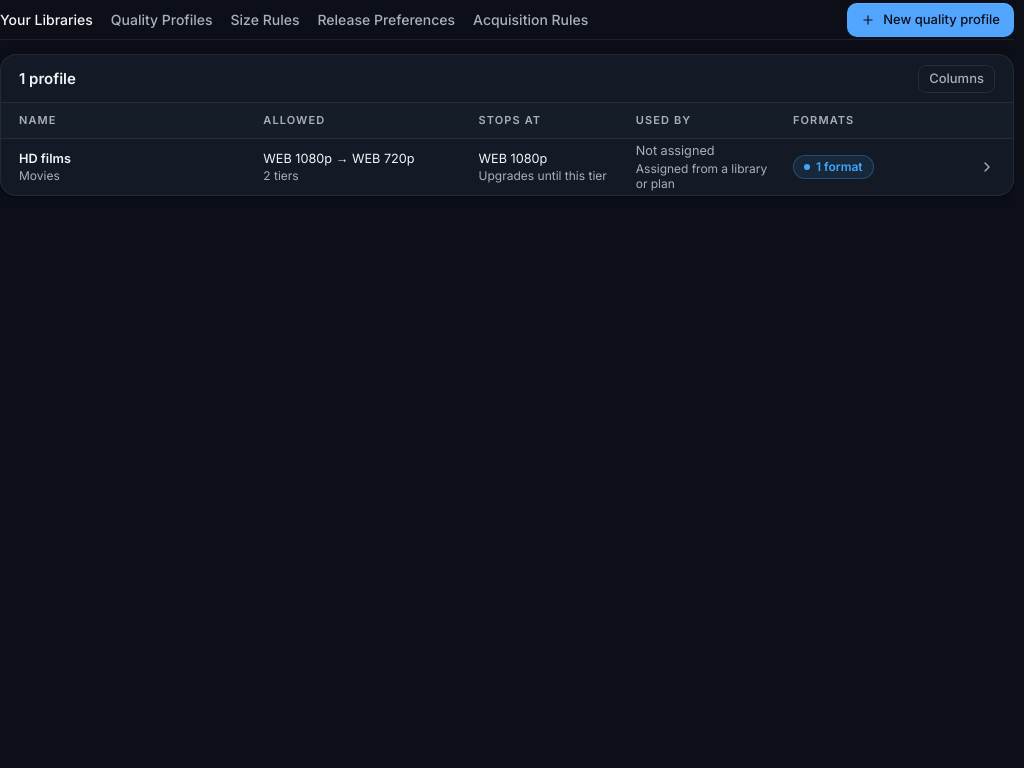
it: Effective release preferences on a saved profile › falls back to the plain sentence when the failure carries no words of its own
Click the text "HD films" at (45, 158), box x1=19 y1=151 x2=71 y2=166
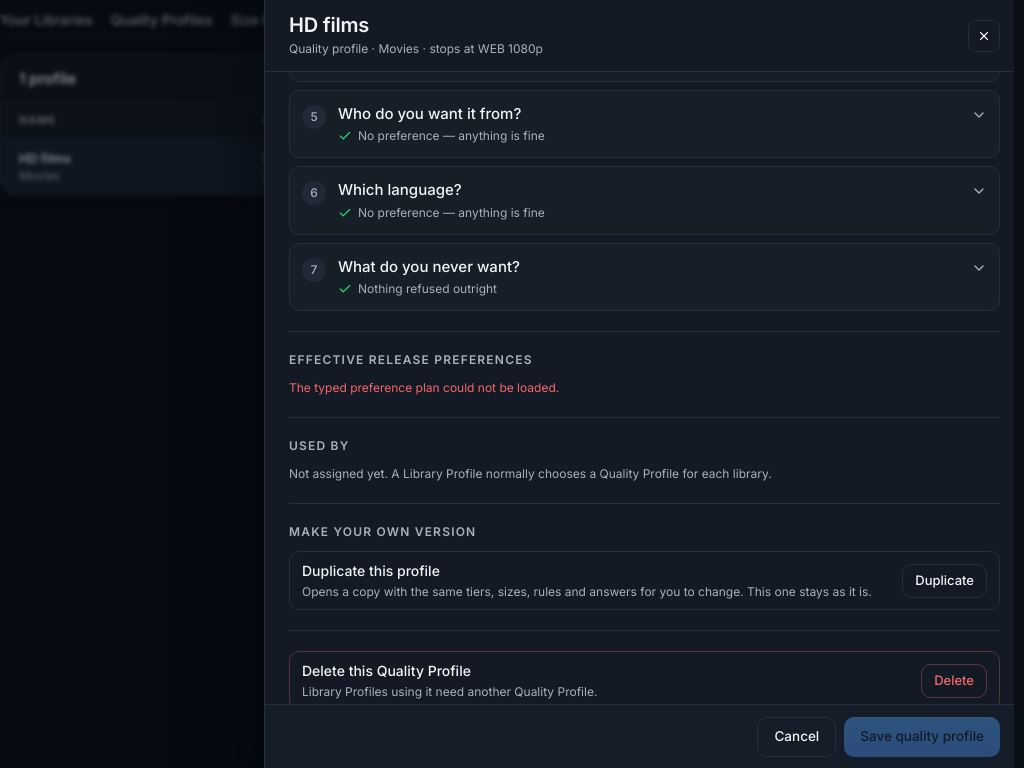
expect the message reads "The typed preference plan could not be loaded.": met, box x1=289 y1=380 x2=559 y2=395
